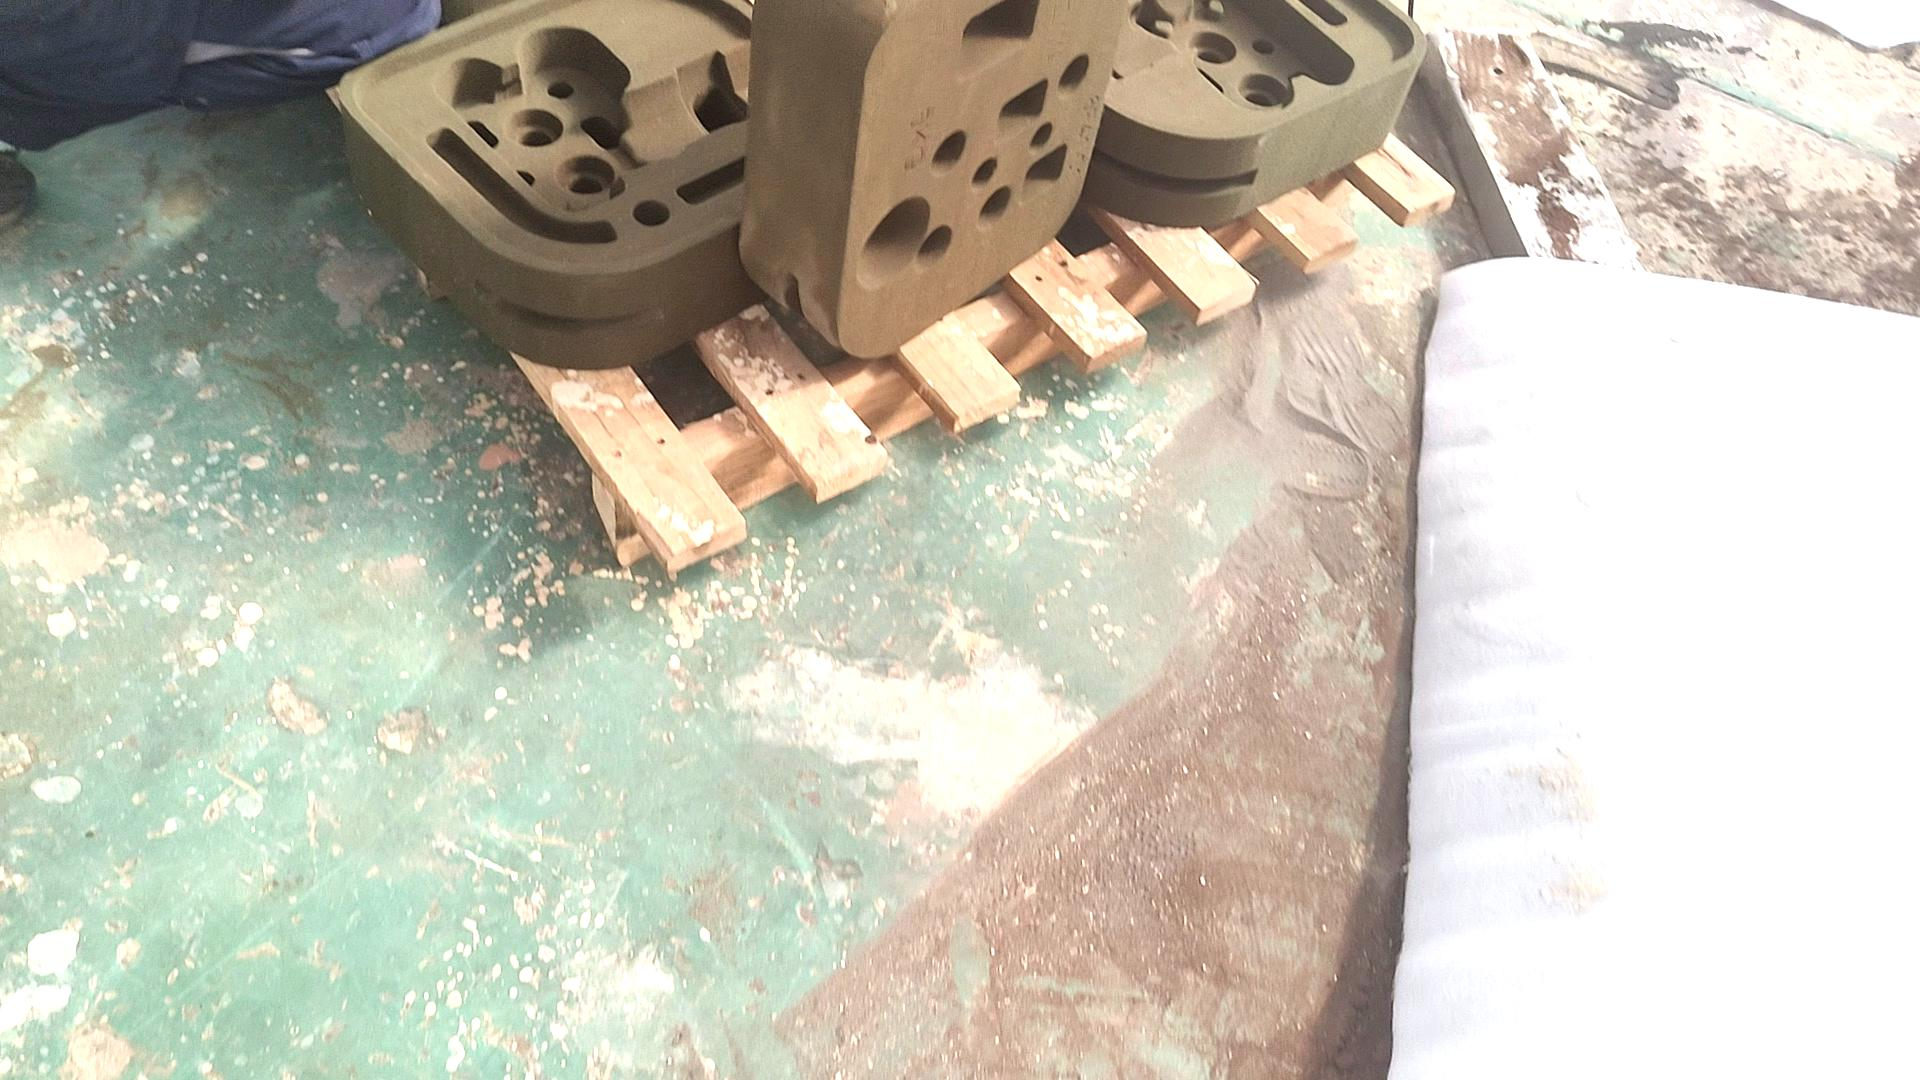pouring hole: (856, 193, 928, 290)
